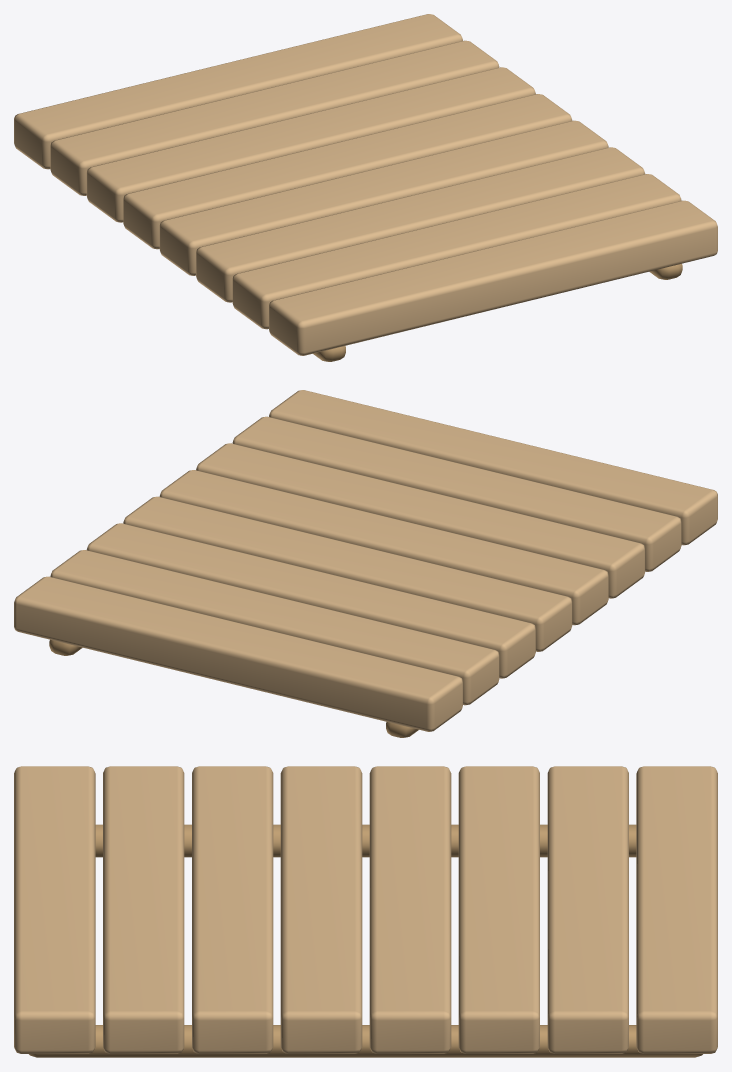
Rendered from pier_deck.glb.
3 views of the same model, one above another, from view 1: azimuth 30°, elevation 25°; view 2: azimuth 150°, elevation 25°; view 3: azimuth 270°, elevation 25° (orthographic). The views are drawn at different scales.
Size of the model in its own units: 2 by 0.245 by 2.37.
